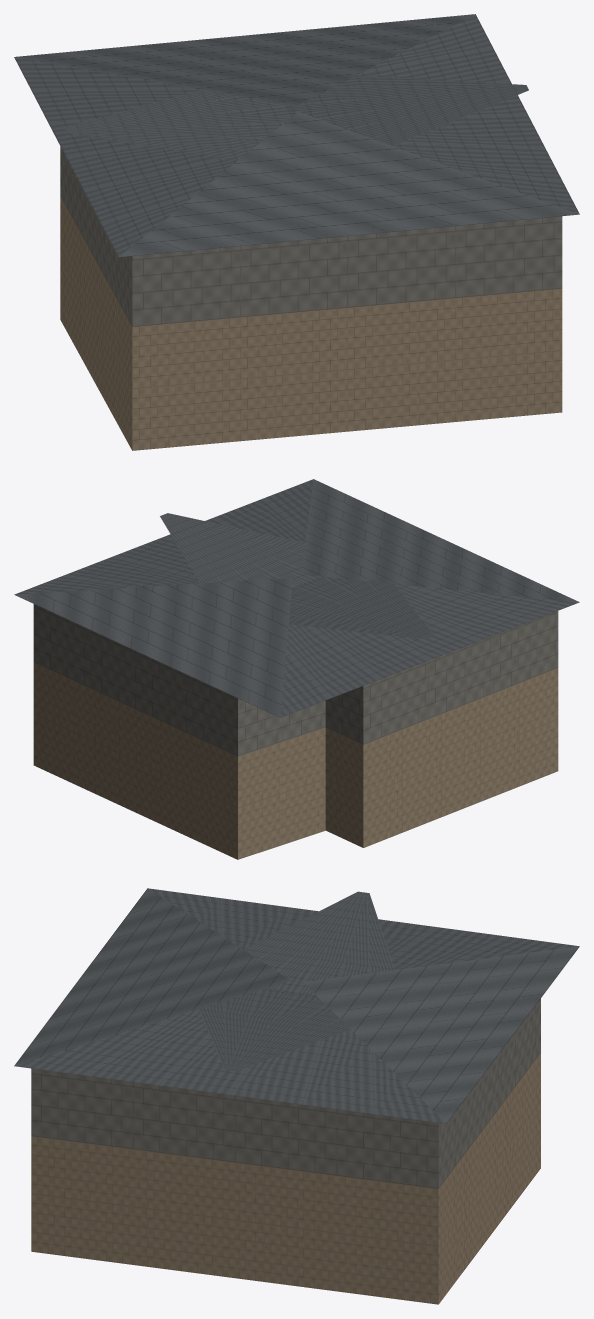
The model's file is bld_c40_44_216.gltf.
3 renders of one model, top to bottom at view 1: azimuth 30°, elevation 25°; view 2: azimuth 150°, elevation 25°; view 3: azimuth 270°, elevation 25°, orthographic. The views are drawn at different scales.
Parts seen in each view (by area): view 1: bld_c40_44_216; view 2: bld_c40_44_216; view 3: bld_c40_44_216.
Part boxes in pixels (bbox=[...]): bld_c40_44_216: bbox=[14, 14, 579, 450]; bld_c40_44_216: bbox=[14, 479, 579, 859]; bld_c40_44_216: bbox=[14, 888, 579, 1304].
Size of the model in its own units: 20.31 by 8.6 by 20.59.
3 materials, 3 textured.
